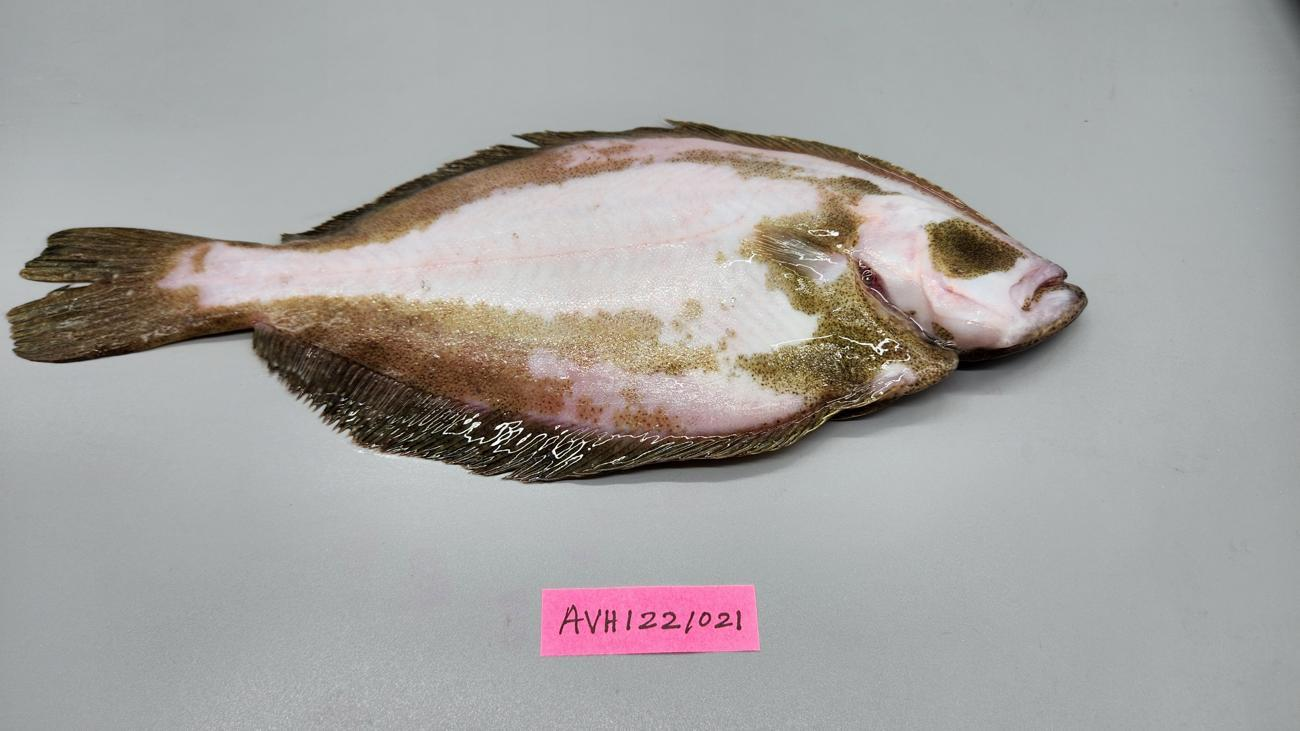VIOUY: (16, 117, 1090, 480)
